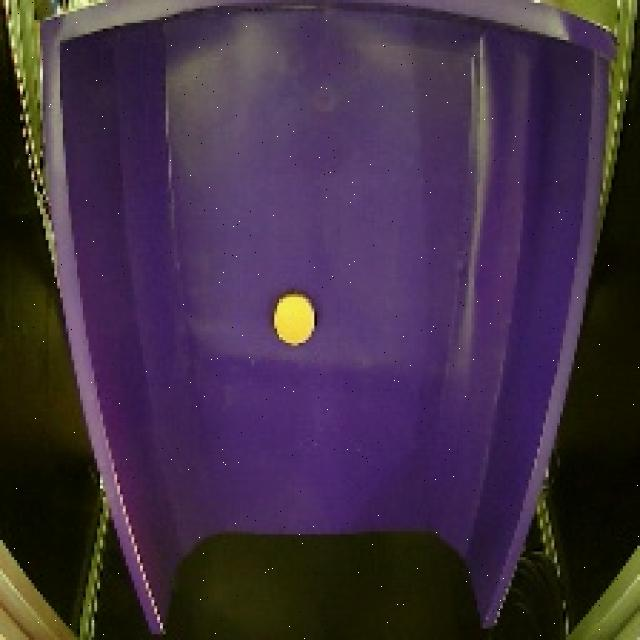small: (268, 291, 317, 350)
